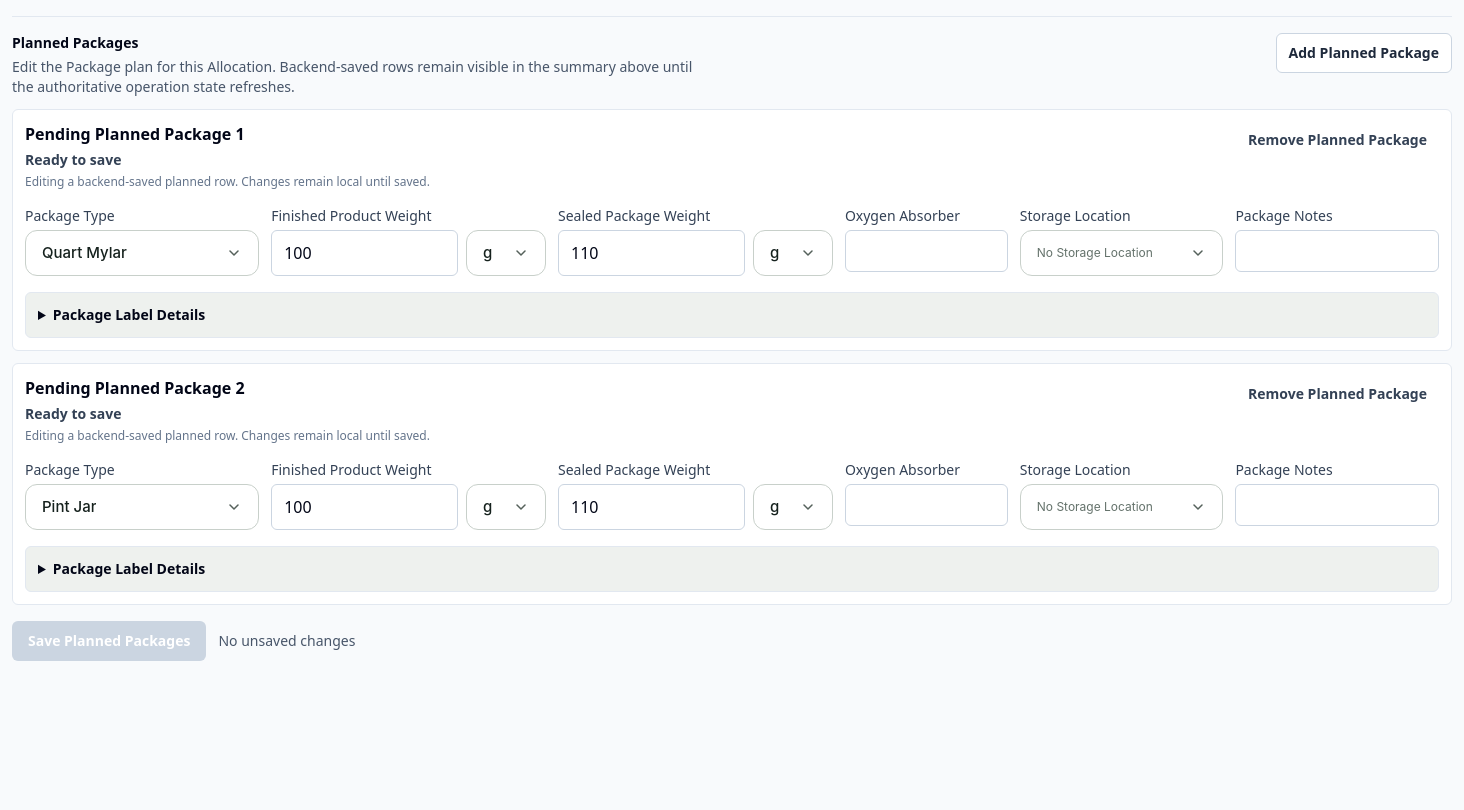
Test: PlannedPackageEditor › persists removal by submitting only the remaining saved rows
Click the button with aria-label "Remove Allocation 1 Planned Package 1" at (1338,140), box x1=1236 y1=122 x2=1439 y2=158
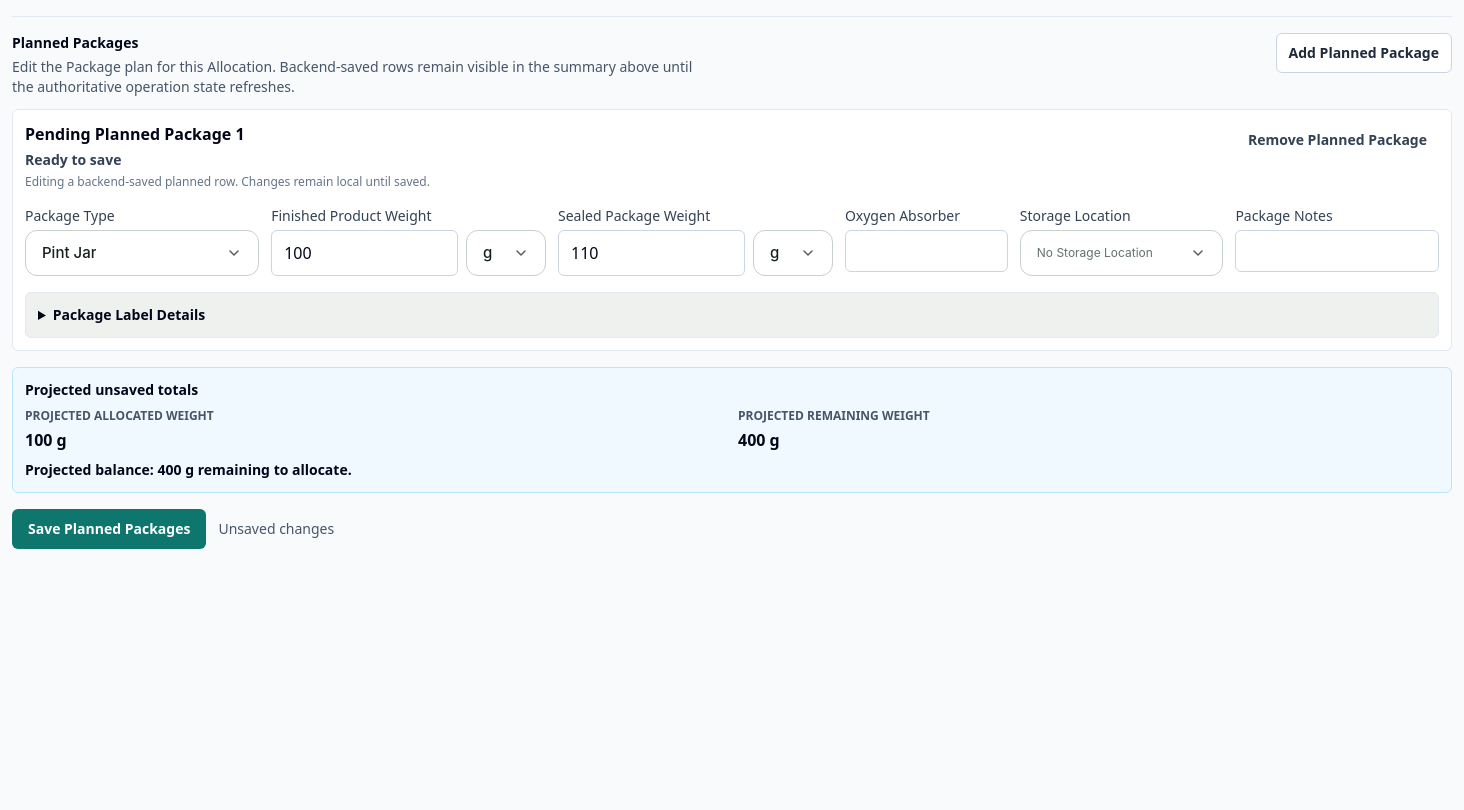
expect the text "Unsaved changes" is shown: met, box x1=218 y1=519 x2=334 y2=539
Click the button with aria-label "Save Allocation 1 Planned Packages" at (109,529), box x1=12 y1=509 x2=206 y2=549
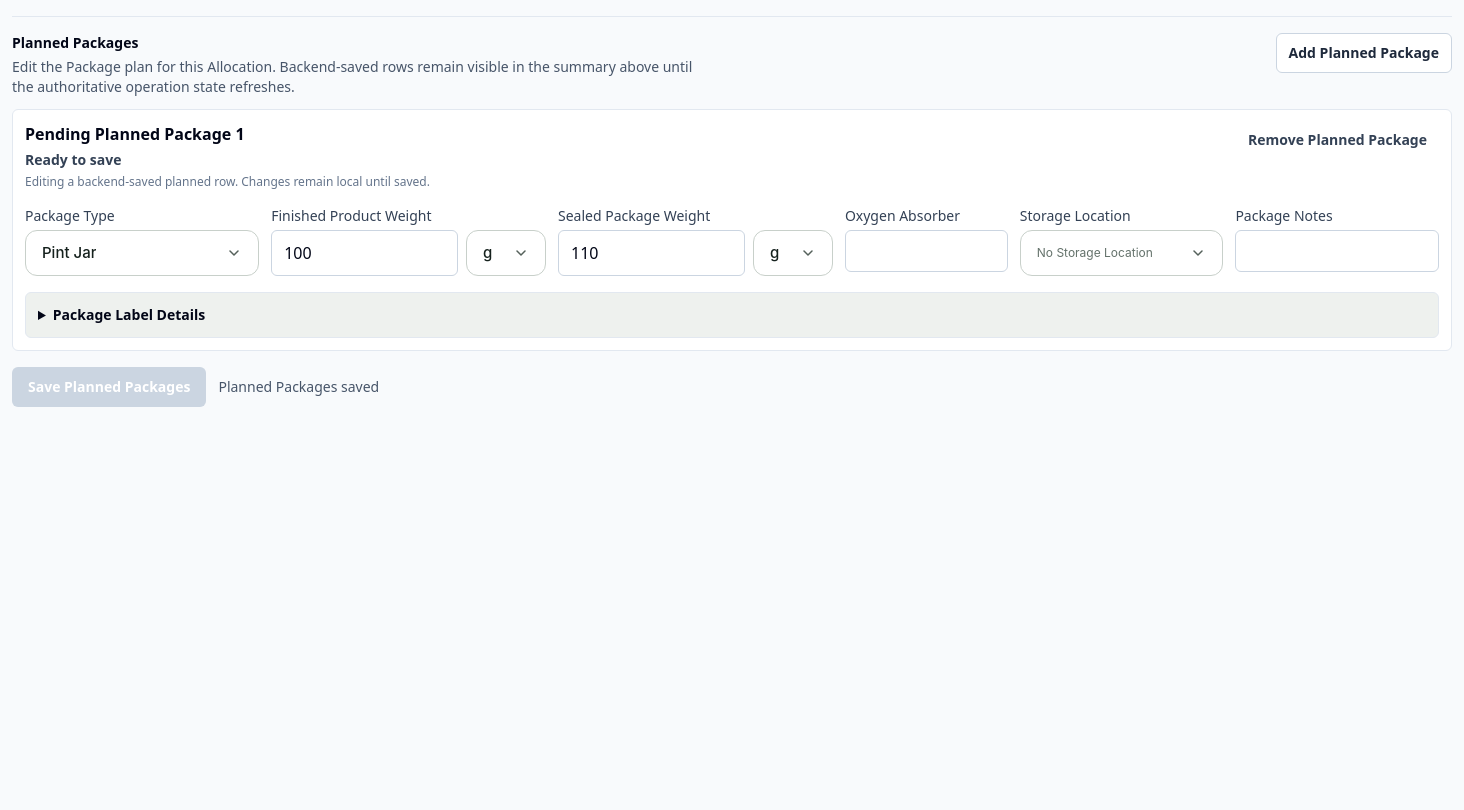
expect the text "Planned Packages saved" is shown: met, box x1=218 y1=377 x2=379 y2=397
